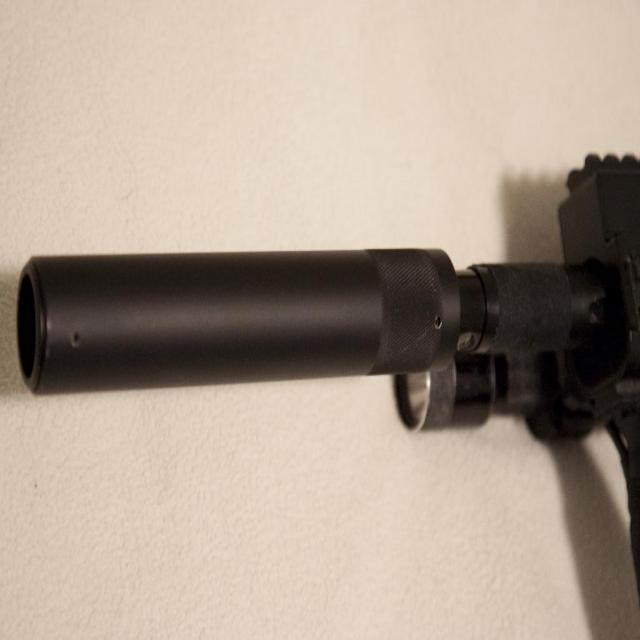weapon: (15, 152, 640, 606)
